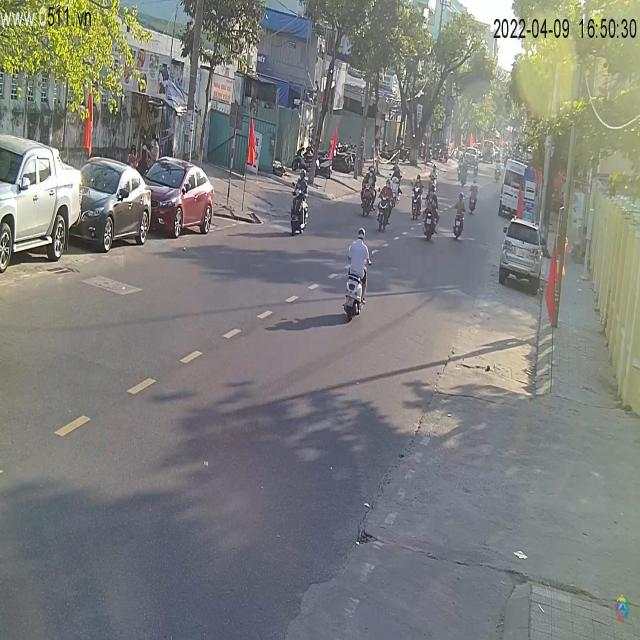car: (1, 134, 83, 276), (74, 158, 154, 252), (140, 156, 217, 239), (499, 216, 545, 296), (496, 156, 536, 219)
motorcycle: (343, 255, 371, 323), (288, 183, 310, 238), (358, 175, 378, 218), (376, 191, 395, 235), (422, 197, 440, 243), (408, 184, 424, 223), (451, 206, 465, 241)
